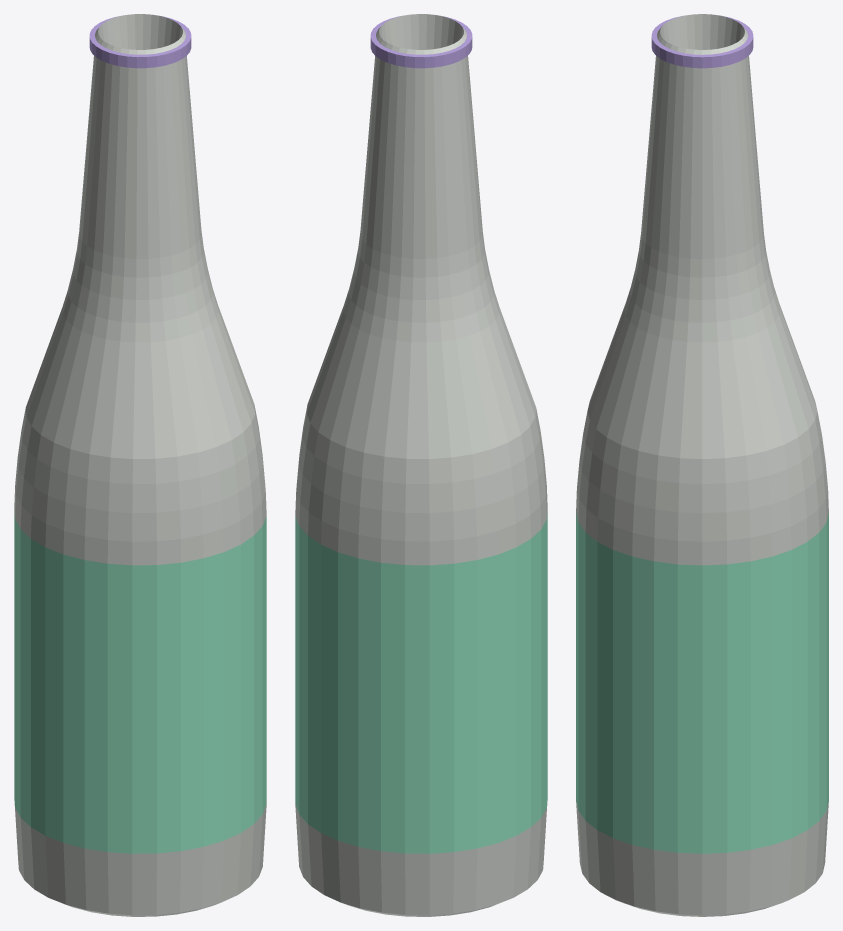
File: Bottle.fbx
3 renders of one model, left to right at view 1: azimuth 30°, elevation 25°; view 2: azimuth 150°, elevation 25°; view 3: azimuth 270°, elevation 25°, orthographic.
Visible parts, largest first — view 1: Cylinder.001; view 2: Cylinder.001; view 3: Cylinder.001.
Boxes of the visible parts, x1,y1,x2,y2 form: Cylinder.001: (14, 14, 266, 916); Cylinder.001: (295, 14, 547, 916); Cylinder.001: (576, 14, 828, 916).
Size of the model in its own units: 318 by 1166 by 318.
